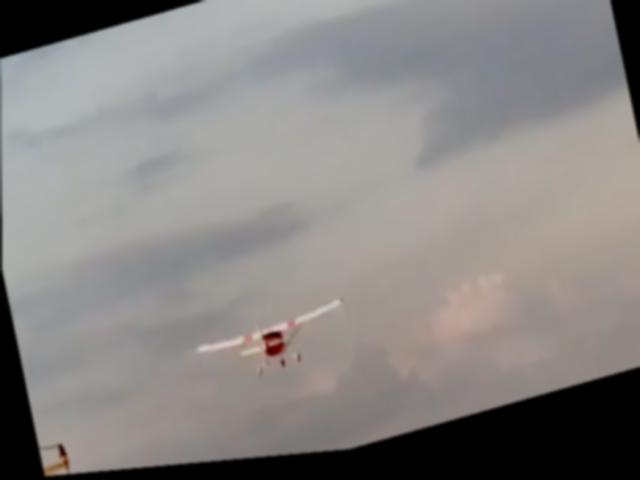plane: (191, 301, 351, 394)
